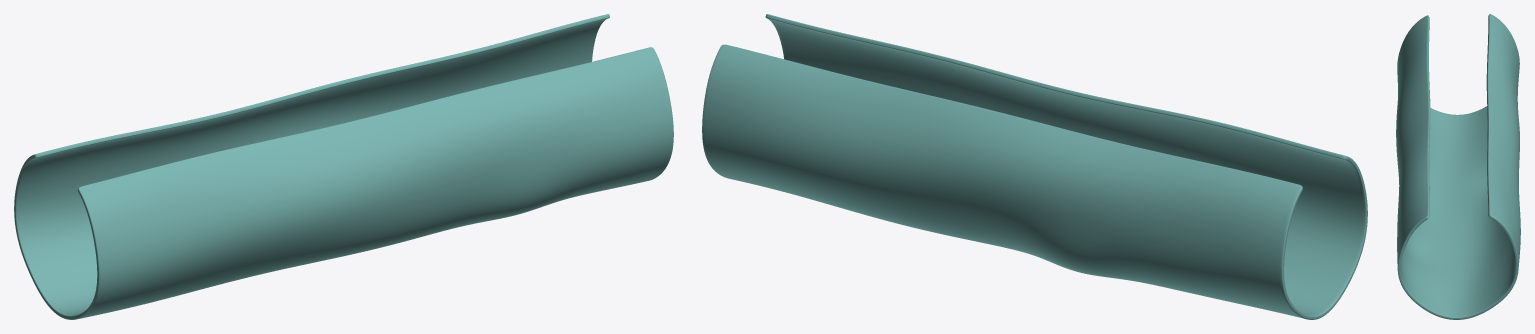
The model's file is capillary-cutaway.glb.
The picture shows the model from 3 angles, left to right: view 1: azimuth 30°, elevation 25°; view 2: azimuth 150°, elevation 25°; view 3: azimuth 270°, elevation 25°; orthographic projection. The views are drawn at different scales.
Visible parts, largest first — view 1: Capillary wall · cutaway; view 2: Capillary wall · cutaway; view 3: Capillary wall · cutaway.
Boxes of the visible parts, box(x1,y1,x2,y2) form: Capillary wall · cutaway: box(14, 14, 673, 319); Capillary wall · cutaway: box(702, 14, 1367, 319); Capillary wall · cutaway: box(1396, 14, 1520, 319).
Size of the model in its own units: 9.6 by 2.33 by 2.5.
